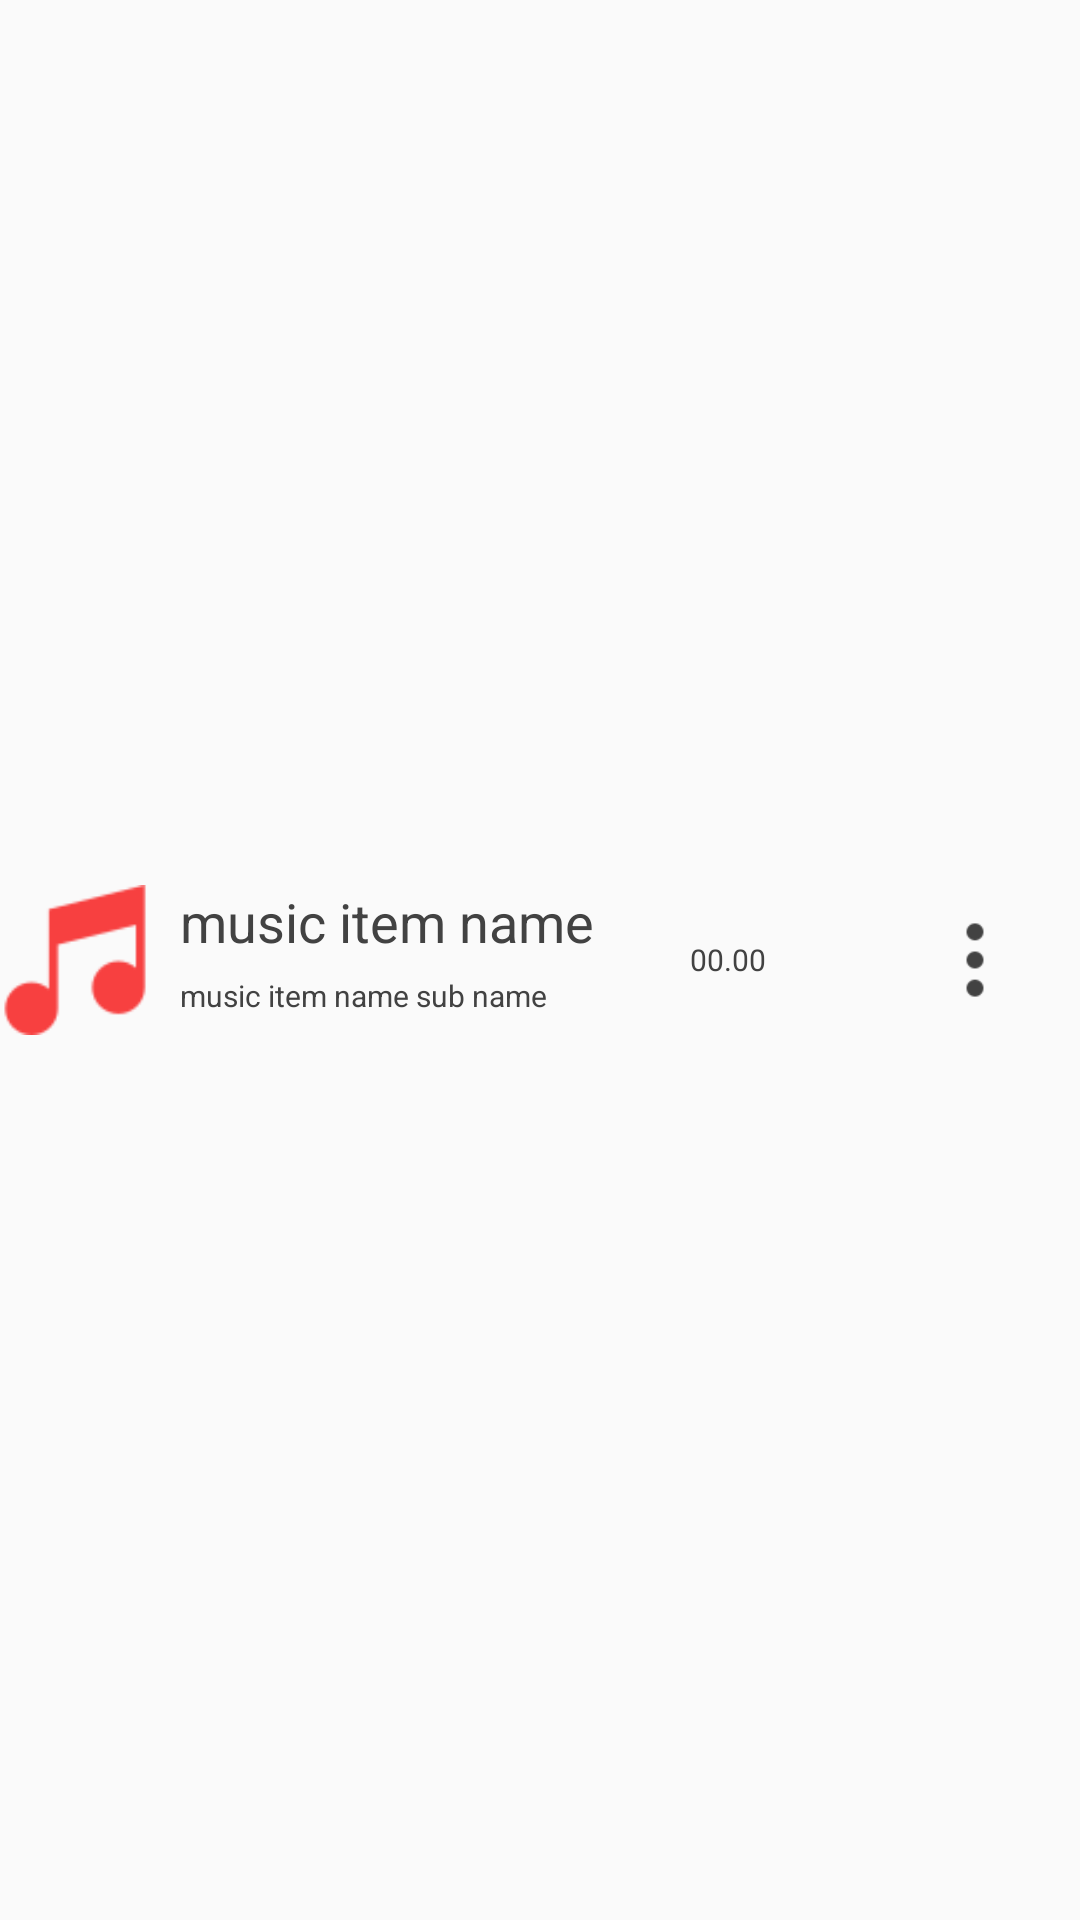

Icons on this 1080px x 1920px Android screen, each with its box as (x1, y1, x2, y2):
threedots: (966, 923, 984, 997)
